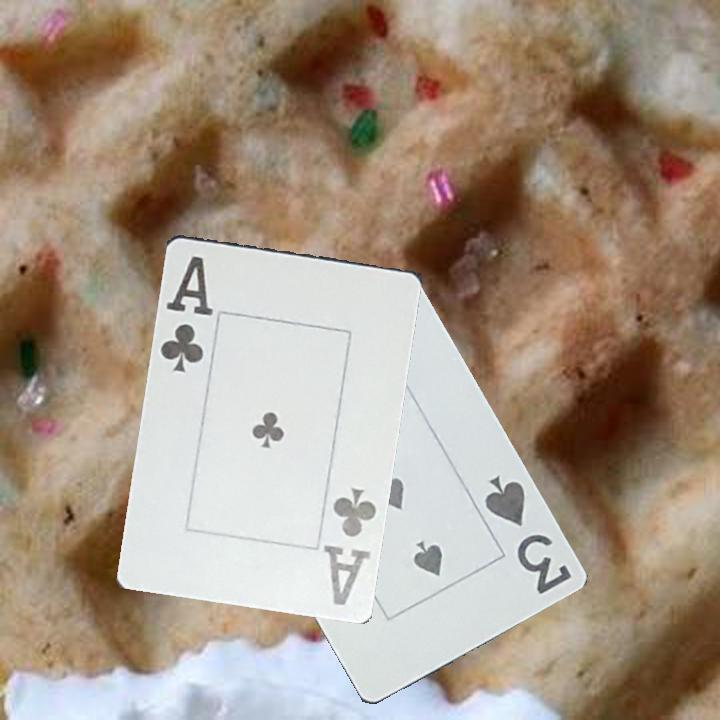3s: (480, 471, 574, 597)
Ac: (154, 252, 216, 375), (319, 483, 379, 608)
